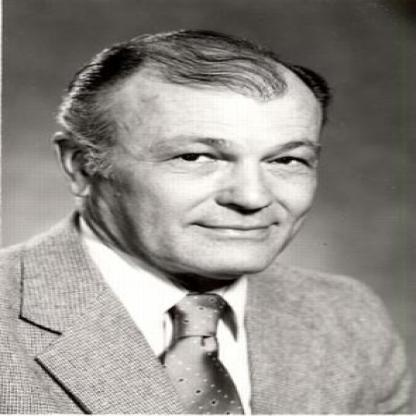face: (103, 37, 335, 278)
